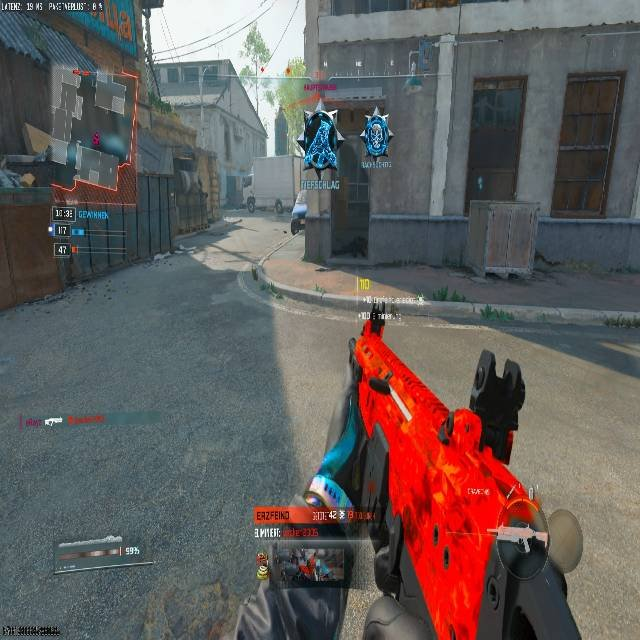player: (298, 106, 340, 174), (362, 113, 390, 162), (246, 194, 256, 214), (274, 197, 283, 215)
